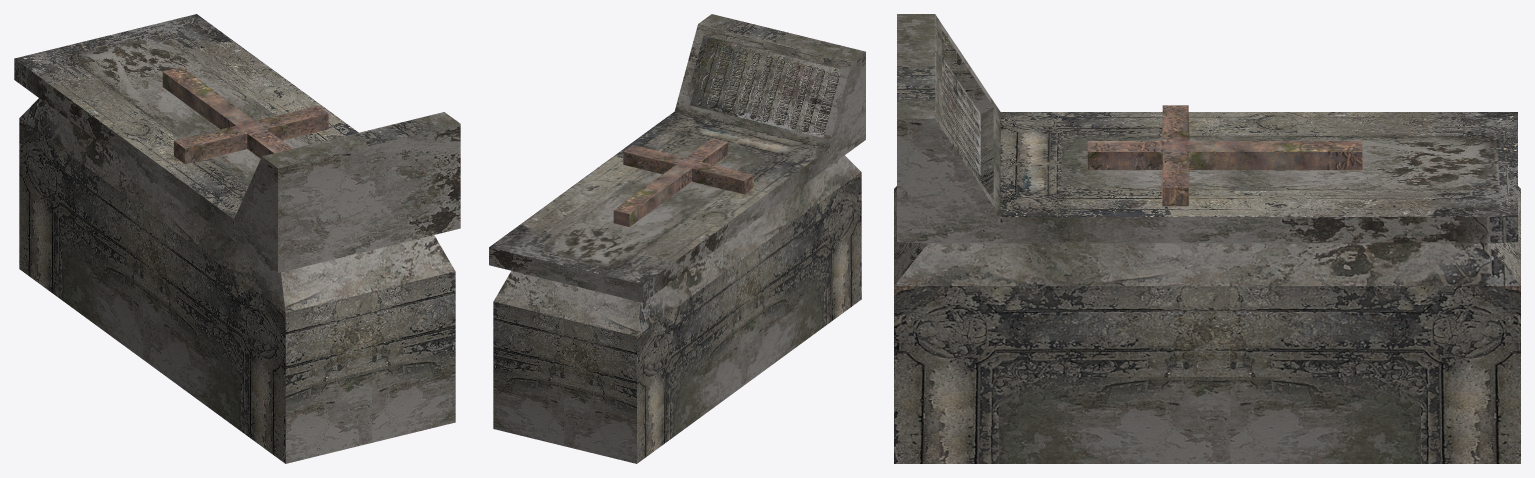
File: tomb_01.fbx
3 views of the same model, side by side, from view 1: azimuth 30°, elevation 25°; view 2: azimuth 150°, elevation 25°; view 3: azimuth 270°, elevation 25° (orthographic). The views are drawn at different scales.
Visible parts, largest first — view 1: Tomb1; view 2: Tomb1; view 3: Tomb1.
Boxes of the visible parts, x1,y1,x2,y2 form: Tomb1: (14,14,460,463); Tomb1: (489,14,865,463); Tomb1: (894,14,1520,463).
Bounding box in the file's own units: 1.2 × 1.86 × 3.03.
